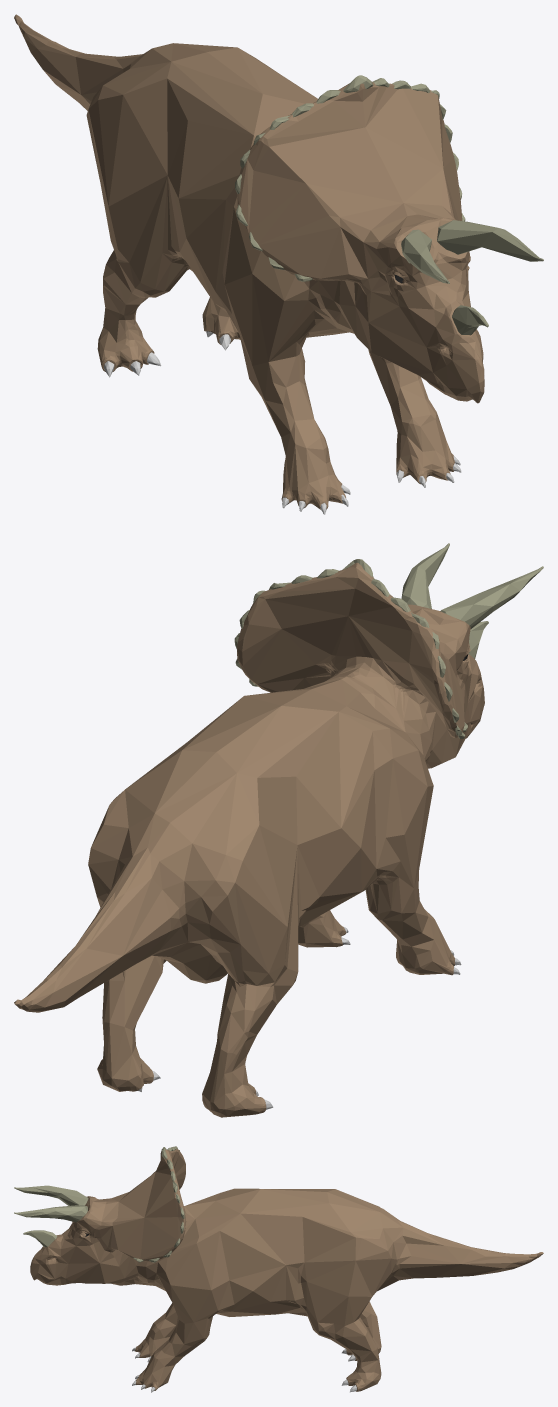
The model's file is tricera.obj.
The picture shows the model from 3 angles, top to bottom: view 1: azimuth 30°, elevation 25°; view 2: azimuth 150°, elevation 25°; view 3: azimuth 270°, elevation 25°; orthographic projection. The views are drawn at different scales.
Visible parts, largest first — view 1: TRIDori, TRICuerI, TRICrest, TRICuerD, TRICuerC; view 2: TRIDori, TRICuerD, TRICrest, TRICuerI; view 3: TRIDori, TRICuerI, TRICuerD, TRICrest, TRICuerC.
Part boxes in pixels (<box>): TRIDori: <box>14,14,484,509</box>; TRICuerI: <box>437,220,543,261</box>; TRICrest: <box>235,75,465,281</box>; TRICuerD: <box>401,229,449,283</box>; TRICuerC: <box>452,305,488,335</box>; TRIDori: <box>14,562,484,1117</box>; TRICuerD: <box>440,566,543,628</box>; TRICrest: <box>234,559,467,738</box>; TRICuerI: <box>401,543,449,608</box>; TRIDori: <box>30,1149,543,1391</box>; TRICuerI: <box>14,1205,87,1222</box>; TRICuerD: <box>14,1185,88,1205</box>; TRICrest: <box>133,1146,184,1262</box>; TRICuerC: <box>23,1230,57,1247</box>.
Bounding box in the file's own units: 70000 × 122406 × 262818.
